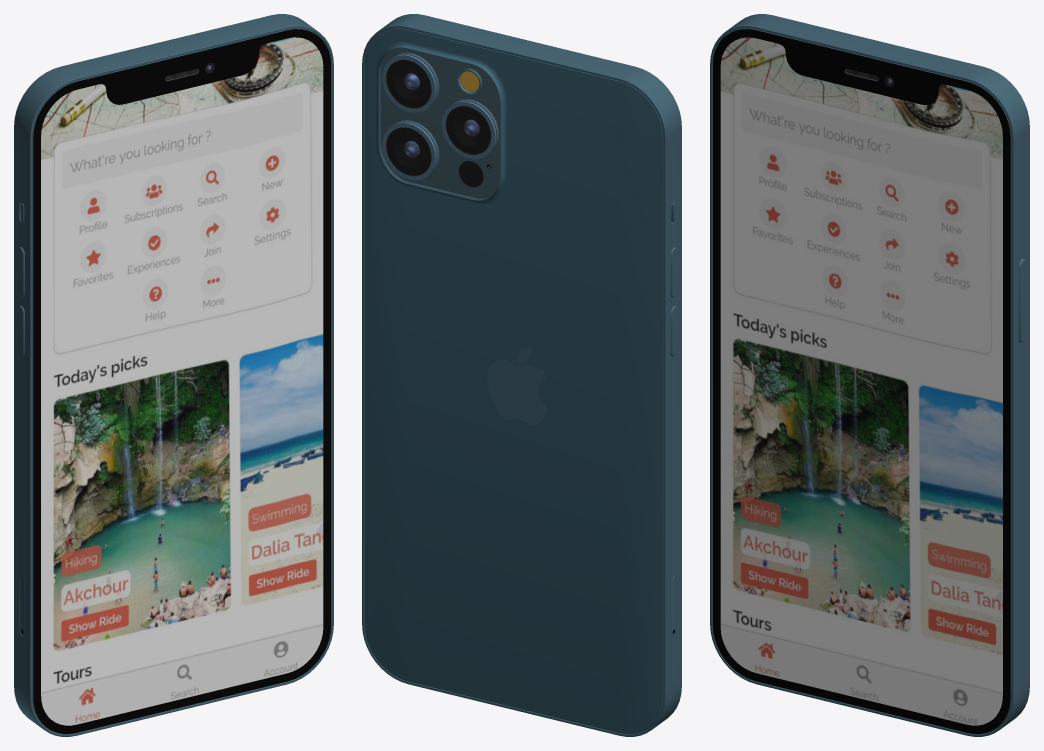
3 renders of one model, left to right at view 1: azimuth 30°, elevation 25°; view 2: azimuth 150°, elevation 25°; view 3: azimuth 330°, elevation 25°, orthographic.
Visible parts, largest first — view 1: Screen, iPhone 12 Pro, Bezel, iPhone12 Pro, VolumeButton; view 2: iPhone12 Pro, iPhone 12 Pro, CameraModule.001, Apple Logo, Camera2, Camera1, Camera3, VolumeButton; view 3: Screen, iPhone 12 Pro, Bezel, iPhone12 Pro, PowerButton.
Boxes of the visible parts, x1,y1,x2,y2 form: Screen: (41, 37, 323, 725); iPhone 12 Pro: (14, 14, 333, 736); Bezel: (33, 29, 330, 733); iPhone12 Pro: (32, 28, 331, 734); VolumeButton: (17, 247, 24, 356); iPhone12 Pro: (364, 28, 663, 734); iPhone 12 Pro: (362, 14, 681, 736); CameraModule.001: (378, 48, 500, 199); Apple Logo: (487, 347, 547, 425); Camera2: (382, 120, 439, 180); Camera1: (382, 52, 439, 112); Camera3: (442, 99, 498, 158); VolumeButton: (670, 247, 677, 356); Screen: (720, 37, 1002, 725); iPhone 12 Pro: (710, 14, 1029, 736); Bezel: (713, 29, 1010, 733); iPhone12 Pro: (712, 28, 1011, 734); PowerButton: (1018, 258, 1026, 342).
Size of the model in its own units: 8.99 by 18.4 by 1.04.
18 materials, 4 textured.
